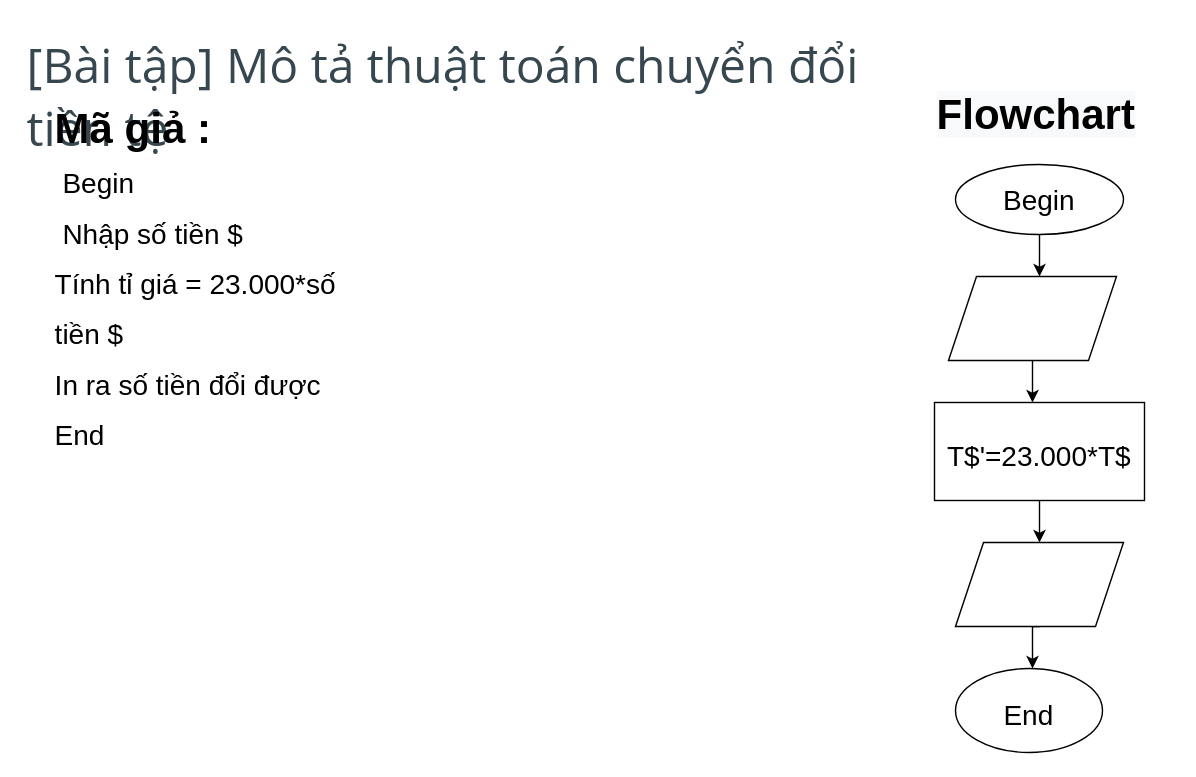
The diagram is 1196 pixels wide and 777 high, and some of its shapes have lost their labels. Here are the shapes that lost their labels. From the top down, the centre of each, then its label:
At pixel 1031 317: "Nhập T$".
At pixel 1039 583: "Display T$'".
